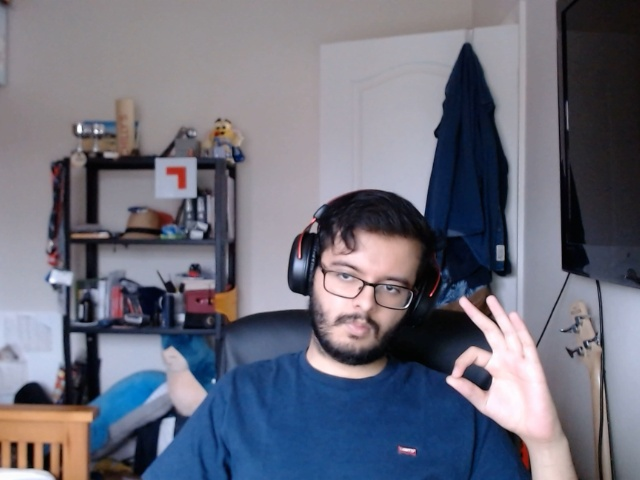Okay: (425, 290, 579, 447)
